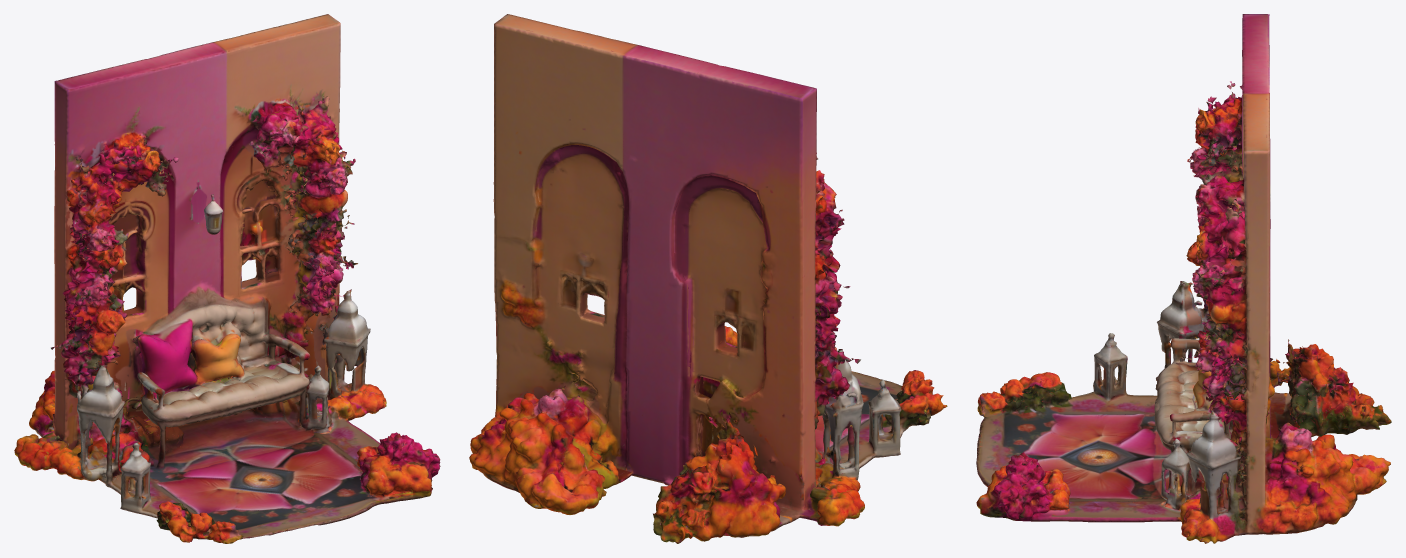
File: Vibrant_Floral_Mayra_Stage.glb
3 renders of one model, left to right at view 1: azimuth 30°, elevation 25°; view 2: azimuth 150°, elevation 25°; view 3: azimuth 270°, elevation 25°, orthographic. The views are drawn at different scales.
Size of the model in its own units: 1.91 by 1.99 by 1.96.
Materials: 1 (1 with a texture image).
